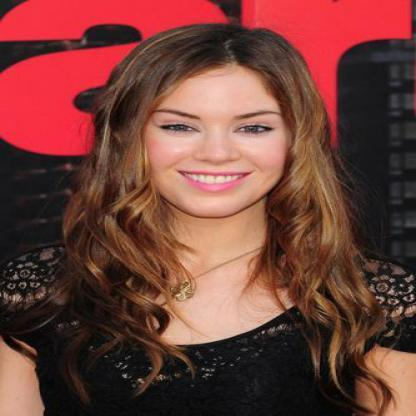long-hair: (49, 217, 368, 269)
